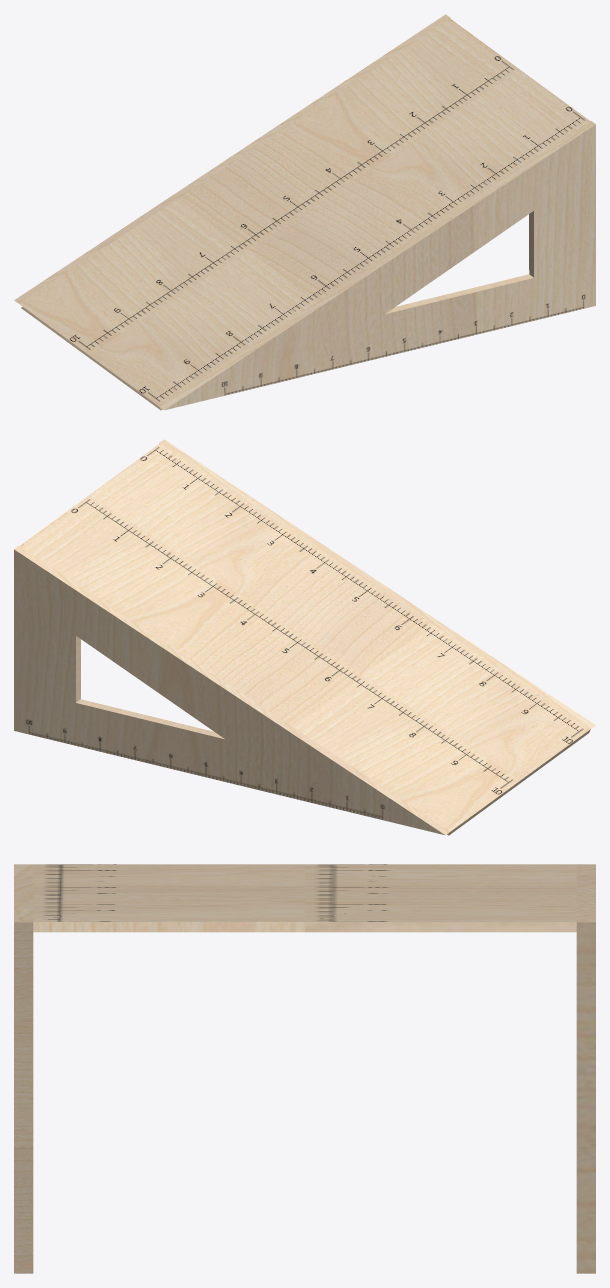
File: Jumping_Platform.fbx
The picture shows the model from 3 angles, top to bottom: view 1: azimuth 30°, elevation 25°; view 2: azimuth 150°, elevation 25°; view 3: azimuth 270°, elevation 25°; orthographic projection. The views are drawn at different scales.
Parts seen in each view (by area): view 1: polySurface1; view 2: polySurface1; view 3: polySurface1.
Boxes of the visible parts, x1,y1,x2,y2 form: polySurface1: (14, 14, 595, 410); polySurface1: (14, 439, 595, 835); polySurface1: (14, 864, 595, 1273).
Bounding box in the file's own units: 998 × 408 × 600.
